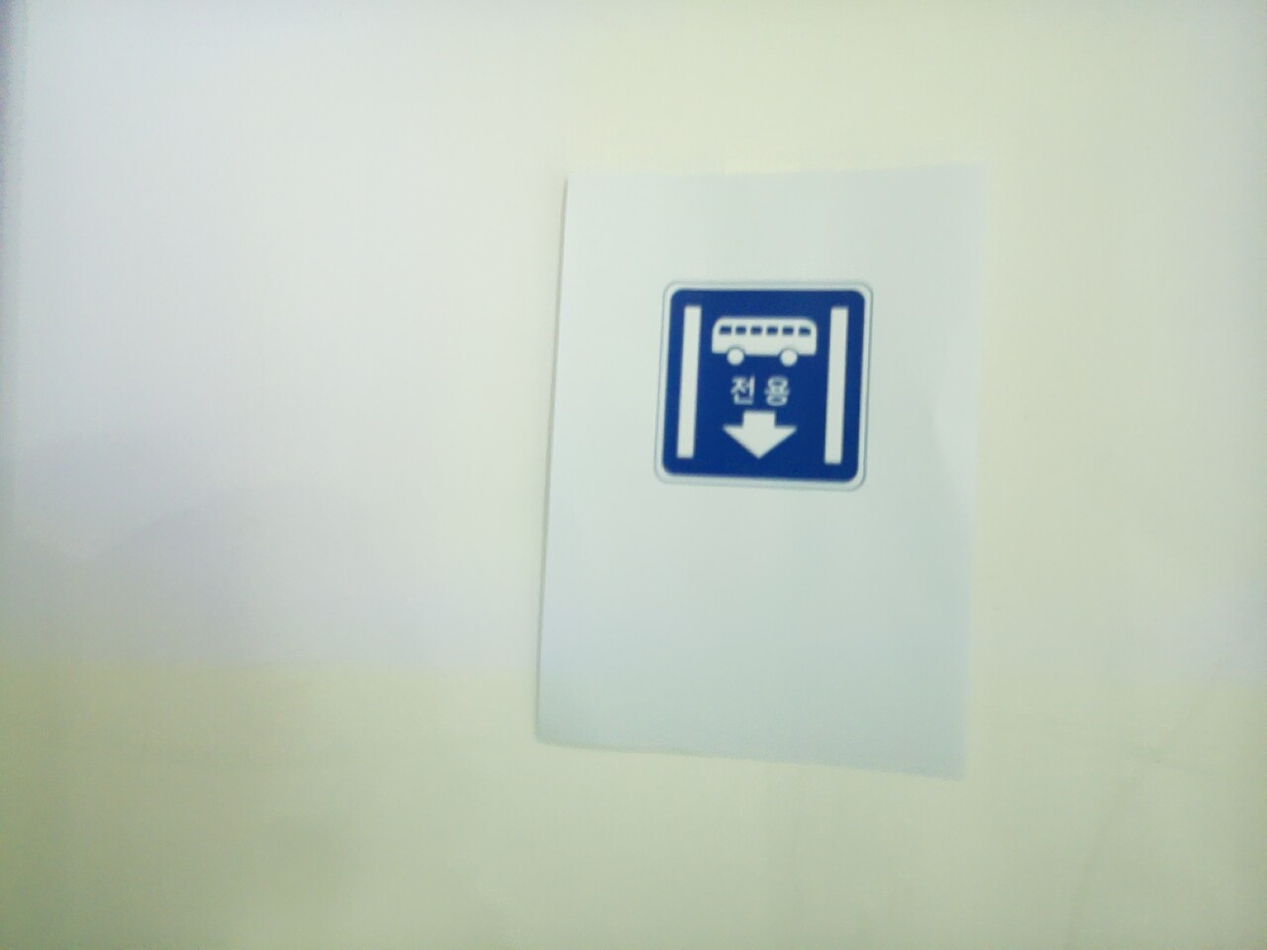bus_only_lane: (654, 281, 873, 491)
